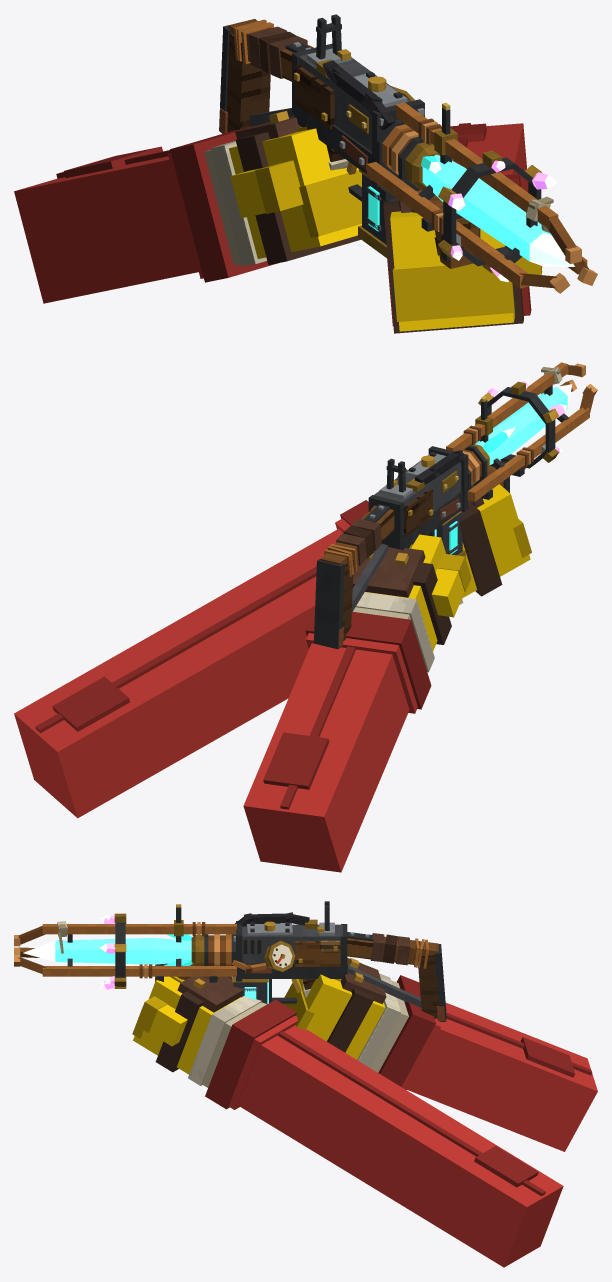
The model's file is gun_caster.glb.
3 renders of one model, top to bottom at view 1: azimuth 30°, elevation 25°; view 2: azimuth 150°, elevation 25°; view 3: azimuth 270°, elevation 25°, orthographic. The views are drawn at different scales.
Parts seen in each view (by area): view 1: arm_r, gun_caster, arm_l, glow_core, spin, mag; view 2: arm_l, arm_r, gun_caster, glow_core, spin, mag; view 3: arm_l, arm_r, gun_caster, glow_core, spin, mag.
Part boxes in pixels (x1,y1,x2,y2): arm_r: (14,111,361,303); gun_caster: (219,14,597,293); arm_l: (383,123,542,333); glow_core: (421,154,574,266); spin: (438,150,556,282); mag: (358,169,403,258); arm_l: (14,484,531,818); arm_r: (243,534,471,872); gun_caster: (314,362,597,649); glow_core: (475,384,572,465); spin: (478,378,566,469); mag: (436,511,465,558); arm_l: (132,976,563,1267); arm_r: (283,958,597,1151); gun_caster: (14,901,446,1021); glow_core: (23,934,192,976); spin: (100,913,126,989); mag: (232,976,268,1003).
Size of the model in its own units: 0.6371 by 0.5477 by 1.1.
Materials: 36 (19 with a texture image).
